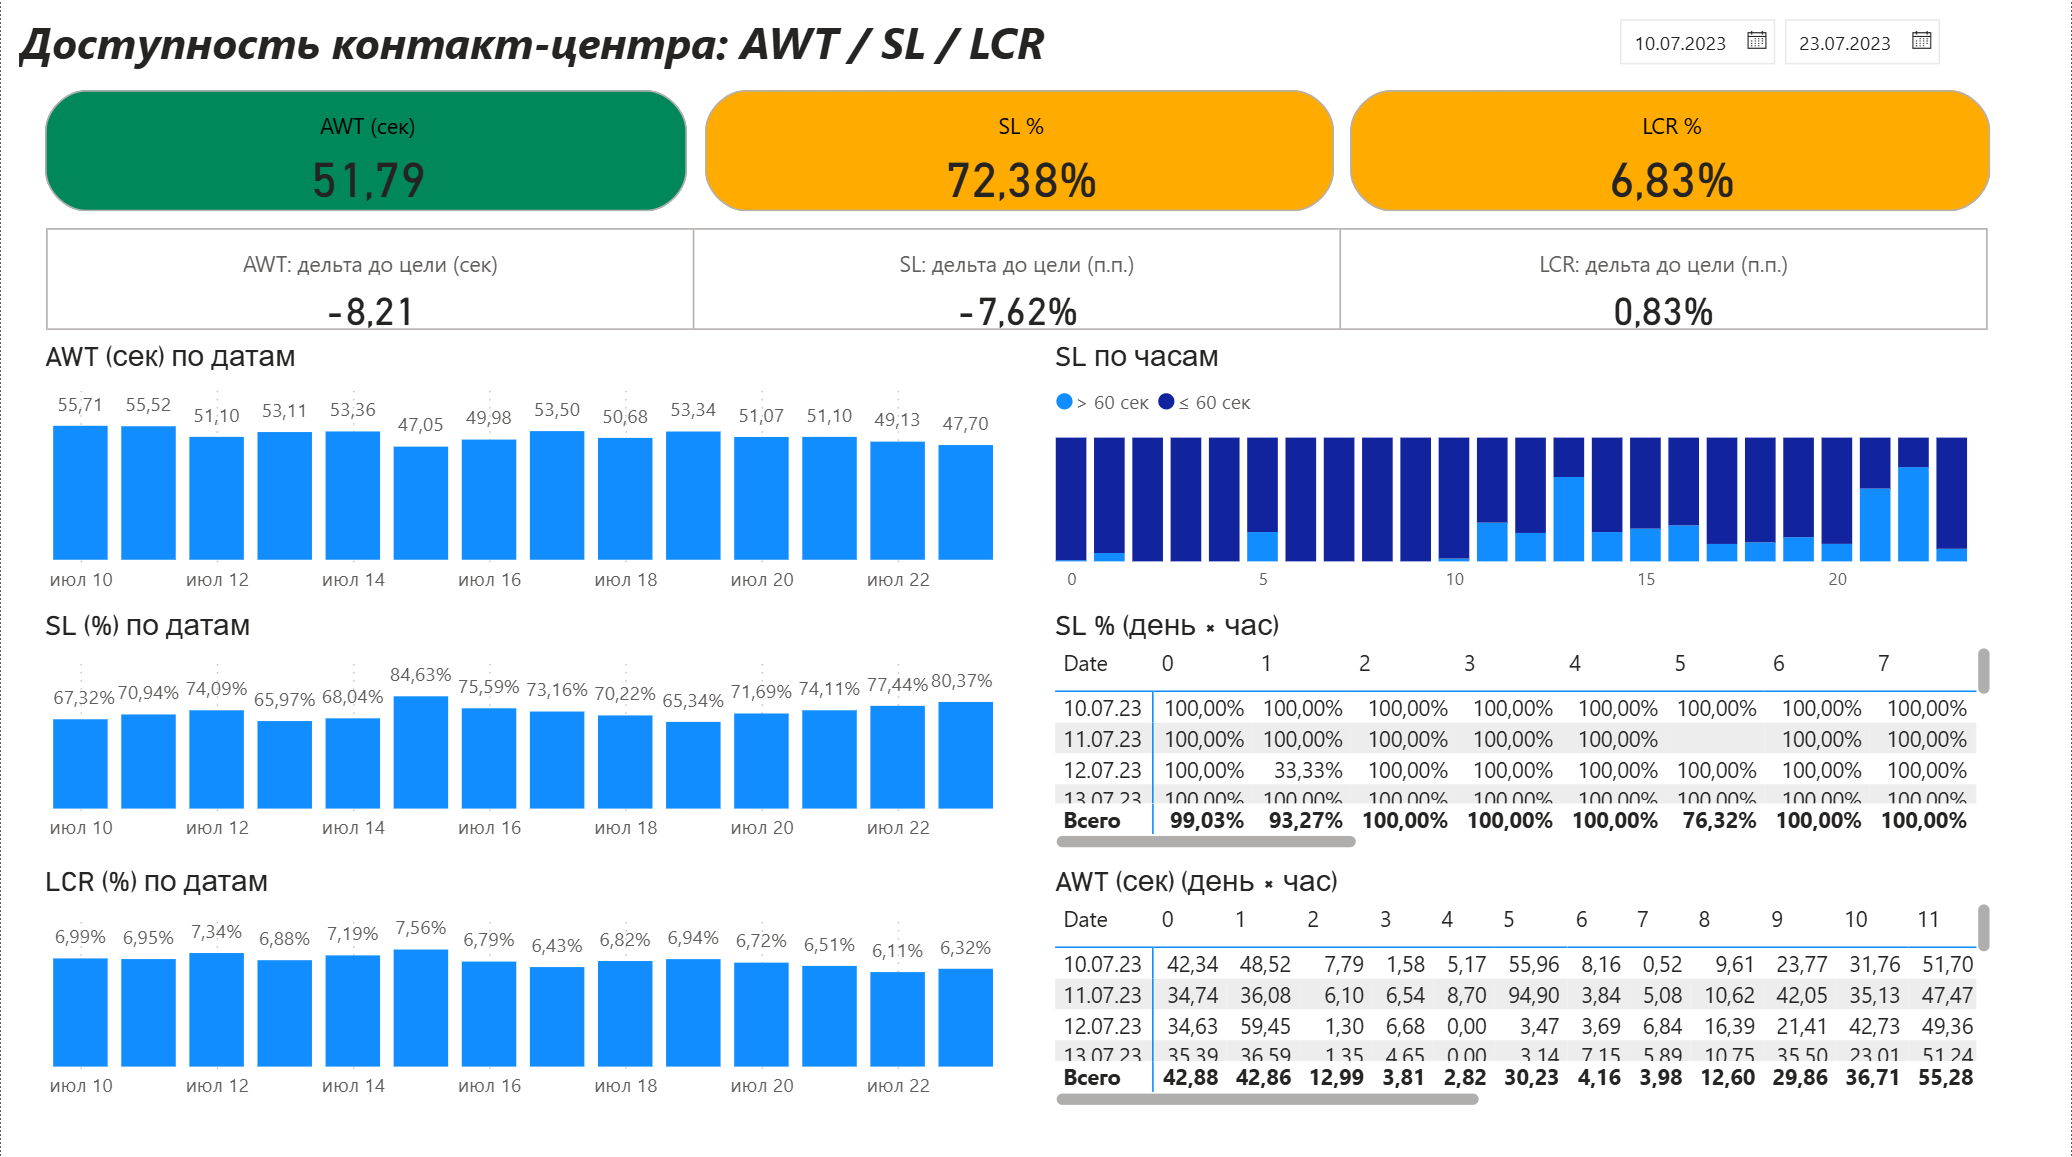

Layout of this report page (visuals, bound fields, positions):
{"tool":"powerbi","page":{"name":"Страница 1","canvas":[1280,720],"ordinal":0},"visuals":[{"type":"slicer","fields":{"Values":["Календарь.Date"]},"box":[988.7,6.2,280.1,48.7],"z":0},{"type":"cardVisual","fields":{"Data":["Меры.AWT (сек)"]},"box":[22.5,54.9,408,85.5],"z":1000},{"type":"cardVisual","fields":{"Data":["Меры.SL %"]},"box":[430.4,54.9,399.2,85.5],"z":2000},{"type":"cardVisual","fields":{"Data":["Меры.LCR %"]},"box":[829.6,54.9,406.1,85.5],"z":3000},{"type":"clusteredColumnChart","title":"SL (%) по датам","fields":{"Category":["Календарь.Date"],"Y":["Меры.SL %"]},"box":[22.5,380.5,601.3,154.1],"z":4000},{"type":"columnChart","title":"AWT (сек) по датам","fields":{"Category":["Календарь.Date"],"Y":["Меры.AWT (сек)"]},"box":[22.5,214,601.3,166.5],"z":5000},{"type":"columnChart","title":"LCR (%) по датам","fields":{"Category":["Календарь.Date"],"Y":["Меры.LCR %"]},"box":[22.5,538.9,601.3,155.3],"z":6000},{"type":"textbox","box":[6.2,6.9,974.3,48],"z":7000},{"type":"hundredPercentStackedColumnChart","title":"SL по часам","fields":{"Category":["Enter_Answer.Час"],"Y":["Меры.Отвеченные звонки"],"Series":["Enter_Answer.SL бакет (≤60?)"]},"box":[646.9,214,598.2,166.5],"z":9000},{"type":"pivotTable","title":"SL % (день × час)","fields":{"Rows":["Календарь.Date"],"Columns":["Enter_Answer.Час"],"Values":["Меры.SL %"]},"box":[646.9,380.5,588.8,154.1],"z":10000},{"type":"pivotTable","title":"AWT (сек) (день × час)","fields":{"Rows":["Календарь.Date"],"Columns":["Enter_Answer.hour"],"Values":["Меры.AWT (сек)"]},"box":[646.9,538.9,588.8,155.3],"z":10001},{"type":"cardVisual","fields":{"Data":["Меры.AWT: дельта до цели (сек)","Меры.SL: дельта до цели (п.п.)","Меры.LCR: дельта до цели (п.п.)"]},"box":[23.1,140.4,1213.3,73.6],"z":10002}]}

Visuals, with their boxes in screenshot pixels (x1, y1, x2, y2), scaled from the page's 1280x720 canvas onto the 2072x1157 screenshot:
slicer - Календарь.Date: bbox(1600, 10, 2054, 88)
cardVisual - Меры.AWT (сек): bbox(36, 88, 697, 226)
cardVisual - Меры.SL %: bbox(697, 88, 1343, 226)
cardVisual - Меры.LCR %: bbox(1343, 88, 2000, 226)
"SL (%) по датам" clusteredColumnChart: bbox(36, 611, 1010, 859)
"AWT (сек) по датам" columnChart: bbox(36, 344, 1010, 611)
"LCR (%) по датам" columnChart: bbox(36, 866, 1010, 1116)
textbox: bbox(10, 11, 1587, 88)
"SL по часам" hundredPercentStackedColumnChart: bbox(1047, 344, 2016, 611)
"SL % (день × час)" pivotTable: bbox(1047, 611, 2000, 859)
"AWT (сек) (день × час)" pivotTable: bbox(1047, 866, 2000, 1116)
cardVisual - Меры.AWT: дельта до цели (сек) x Меры.SL: дельта до цели (п.п.): bbox(37, 226, 2001, 344)
